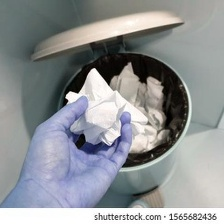tissue: (60, 63, 152, 150), (105, 56, 171, 135)
